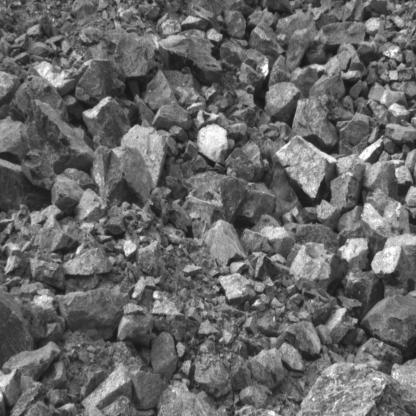stone: (294, 362, 416, 416), (22, 101, 97, 174), (55, 286, 132, 341), (276, 135, 337, 203), (120, 124, 167, 208), (76, 61, 138, 122), (81, 357, 148, 408), (158, 35, 222, 86), (361, 293, 416, 349), (290, 242, 349, 294), (11, 75, 70, 124), (0, 158, 52, 212), (0, 290, 34, 370), (82, 96, 132, 149), (292, 96, 337, 152), (2, 340, 61, 380), (342, 266, 384, 322), (360, 203, 401, 259), (90, 147, 127, 205), (234, 178, 277, 225), (371, 247, 416, 291), (204, 221, 247, 267), (114, 32, 157, 76), (284, 223, 346, 253), (355, 338, 403, 376), (271, 162, 304, 217), (330, 163, 365, 214), (159, 389, 224, 416), (189, 181, 227, 225), (275, 11, 319, 46), (310, 57, 345, 100), (32, 62, 75, 97), (250, 348, 285, 391), (284, 321, 322, 360), (20, 150, 58, 189), (144, 70, 181, 110), (194, 360, 231, 399), (363, 161, 399, 201), (51, 174, 85, 216), (129, 371, 167, 408), (264, 82, 300, 121), (5, 381, 45, 416), (248, 22, 288, 56), (153, 300, 186, 341), (185, 171, 238, 196), (0, 116, 27, 165), (384, 233, 416, 274), (151, 333, 178, 381), (337, 238, 369, 278), (197, 124, 229, 164), (314, 22, 367, 46), (221, 177, 247, 225), (64, 249, 112, 275), (118, 314, 154, 348), (324, 308, 357, 345), (29, 258, 67, 290), (74, 188, 108, 222), (285, 28, 311, 72), (219, 274, 258, 303), (152, 104, 193, 131), (260, 226, 295, 257), (225, 147, 256, 181), (340, 113, 370, 146), (240, 141, 264, 182), (290, 67, 319, 99), (221, 37, 248, 71), (240, 229, 274, 256), (137, 241, 161, 276), (0, 369, 22, 407), (279, 342, 306, 372), (230, 355, 253, 390), (238, 63, 263, 95), (267, 55, 291, 88), (134, 95, 156, 129), (385, 123, 416, 147), (0, 70, 20, 107), (167, 204, 191, 234), (337, 205, 364, 231), (317, 200, 340, 230), (391, 364, 416, 391), (361, 136, 384, 164), (50, 230, 78, 253), (336, 154, 366, 175), (224, 10, 246, 38), (394, 166, 414, 196), (255, 253, 276, 280), (380, 89, 408, 108), (248, 11, 278, 27), (388, 104, 410, 124), (159, 20, 182, 39), (245, 49, 266, 69), (72, 0, 95, 18), (79, 28, 103, 45), (392, 82, 416, 99), (181, 16, 208, 31), (28, 42, 55, 56), (383, 45, 404, 62), (365, 18, 384, 36), (404, 149, 416, 176), (369, 83, 385, 102), (338, 51, 351, 72), (350, 81, 364, 97)
